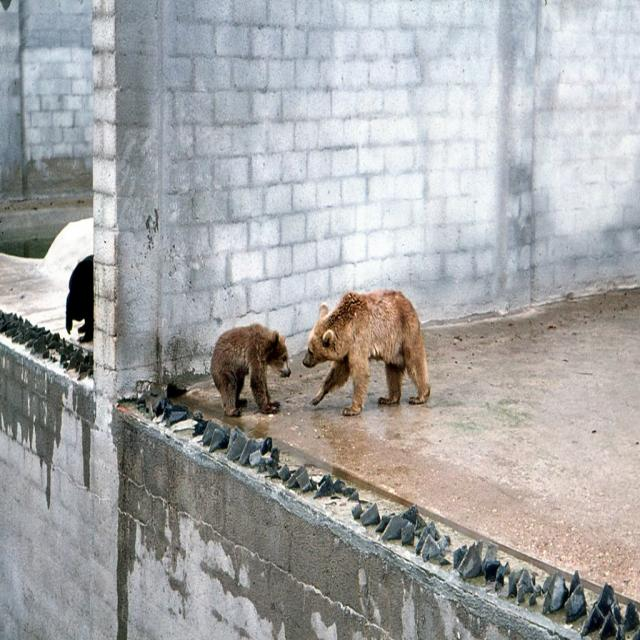bear: (298, 278, 433, 417), (206, 306, 294, 424)
